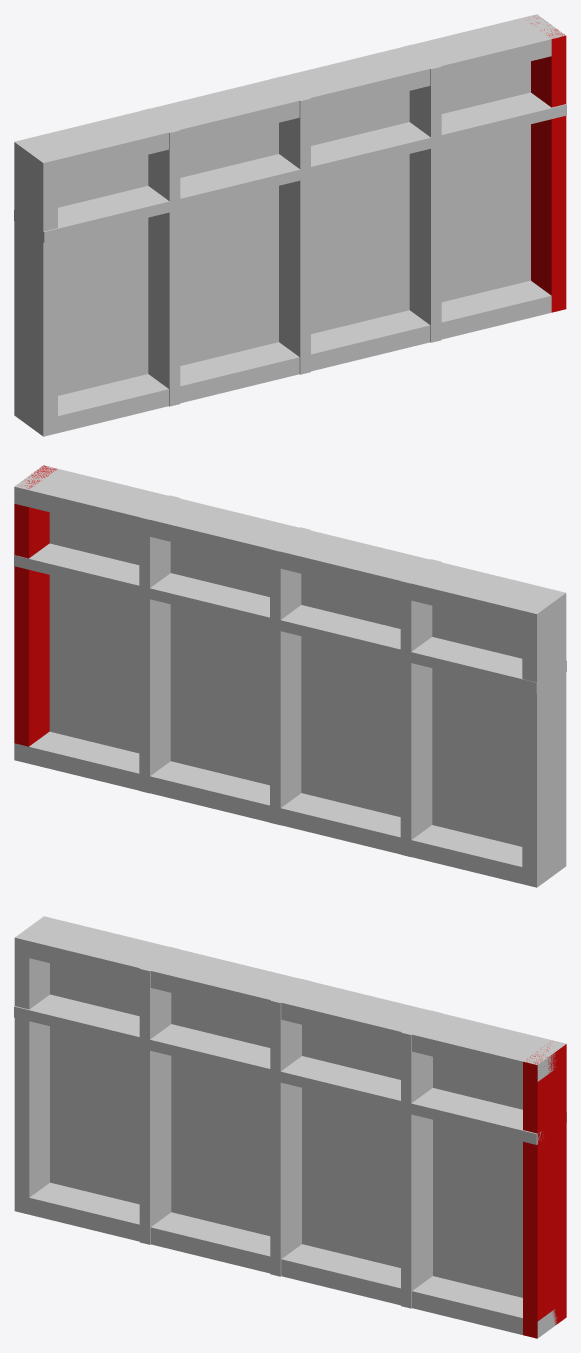
Rendered from dynamic_window.glb.
3 renders of one model, top to bottom at view 1: azimuth 30°, elevation 25°; view 2: azimuth 150°, elevation 25°; view 3: azimuth 330°, elevation 25°, orthographic.
Parts seen in each view (by area): view 1: glass, top_frame, left_frame, bottom_frame, bottom_inside, right_inside, right_frame.001, bottom_mid1, bottom_mid3, bottom_mid2, horiz_beam3, horiz_beam2 (+5 smaller); view 2: glass, top_frame, left_frame, bottom_frame, bottom_inside, right_inside, bottom_mid1, bottom_mid3, bottom_mid2, top_mid1, horiz_beam1, horiz_beam2 (+5 smaller); view 3: glass, top_frame, right_frame.001, bottom_inside, bottom_frame, left_inside, bottom_mid1, left_frame, bottom_mid2, bottom_mid3, horiz_beam2, horiz_beam3 (+5 smaller).
Boxes of the visible parts, box(x1,y1,x2,y2) form: glass: box(58, 61, 530, 395); top_frame: box(14, 14, 565, 179); left_frame: box(14, 141, 57, 436); bottom_frame: box(14, 296, 551, 436); bottom_inside: box(58, 280, 551, 415); right_inside: box(531, 56, 551, 295); right_frame.001: box(531, 17, 566, 312); bottom_mid1: box(148, 254, 180, 406); bottom_mid3: box(409, 191, 441, 342); bottom_mid2: box(279, 222, 310, 374); horiz_beam3: box(305, 122, 436, 178); horiz_beam2: box(175, 154, 305, 210); glass: box(49, 512, 522, 846); top_frame: box(14, 465, 566, 630); left_frame: box(522, 589, 566, 886); bottom_frame: box(14, 743, 566, 887); bottom_inside: box(29, 731, 522, 866); right_inside: box(29, 507, 49, 746); bottom_mid1: box(400, 705, 432, 856); bottom_mid3: box(139, 642, 170, 793); bottom_mid2: box(270, 674, 301, 825); top_mid1: box(400, 559, 440, 720); horiz_beam1: box(406, 637, 566, 693); horiz_beam2: box(275, 605, 405, 660); glass: box(50, 963, 522, 1297); top_frame: box(14, 916, 566, 1081); right_frame.001: box(523, 1043, 566, 1338); bottom_inside: box(29, 1182, 522, 1317); bottom_frame: box(14, 1194, 556, 1338); left_inside: box(29, 958, 49, 1197); bottom_mid1: box(139, 1093, 171, 1244); left_frame: box(14, 917, 57, 1214); bottom_mid2: box(270, 1124, 301, 1276); bottom_mid3: box(401, 1156, 432, 1308); horiz_beam2: box(144, 1024, 275, 1080); horiz_beam3: box(275, 1056, 405, 1112).
Size of the model in its own units: 2 by 1 by 0.2.
